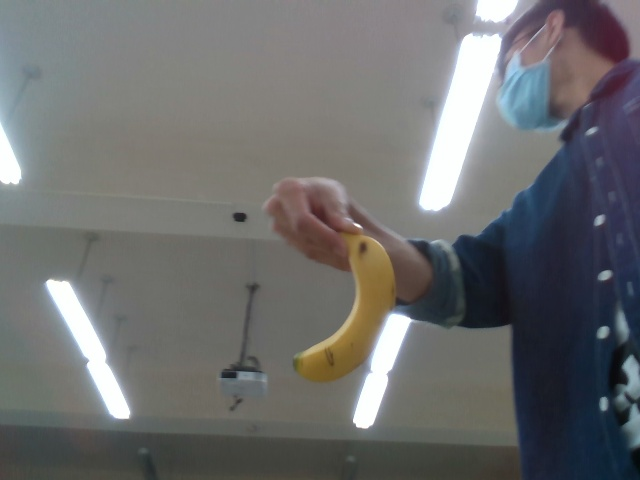banana: (291, 231, 397, 385)
